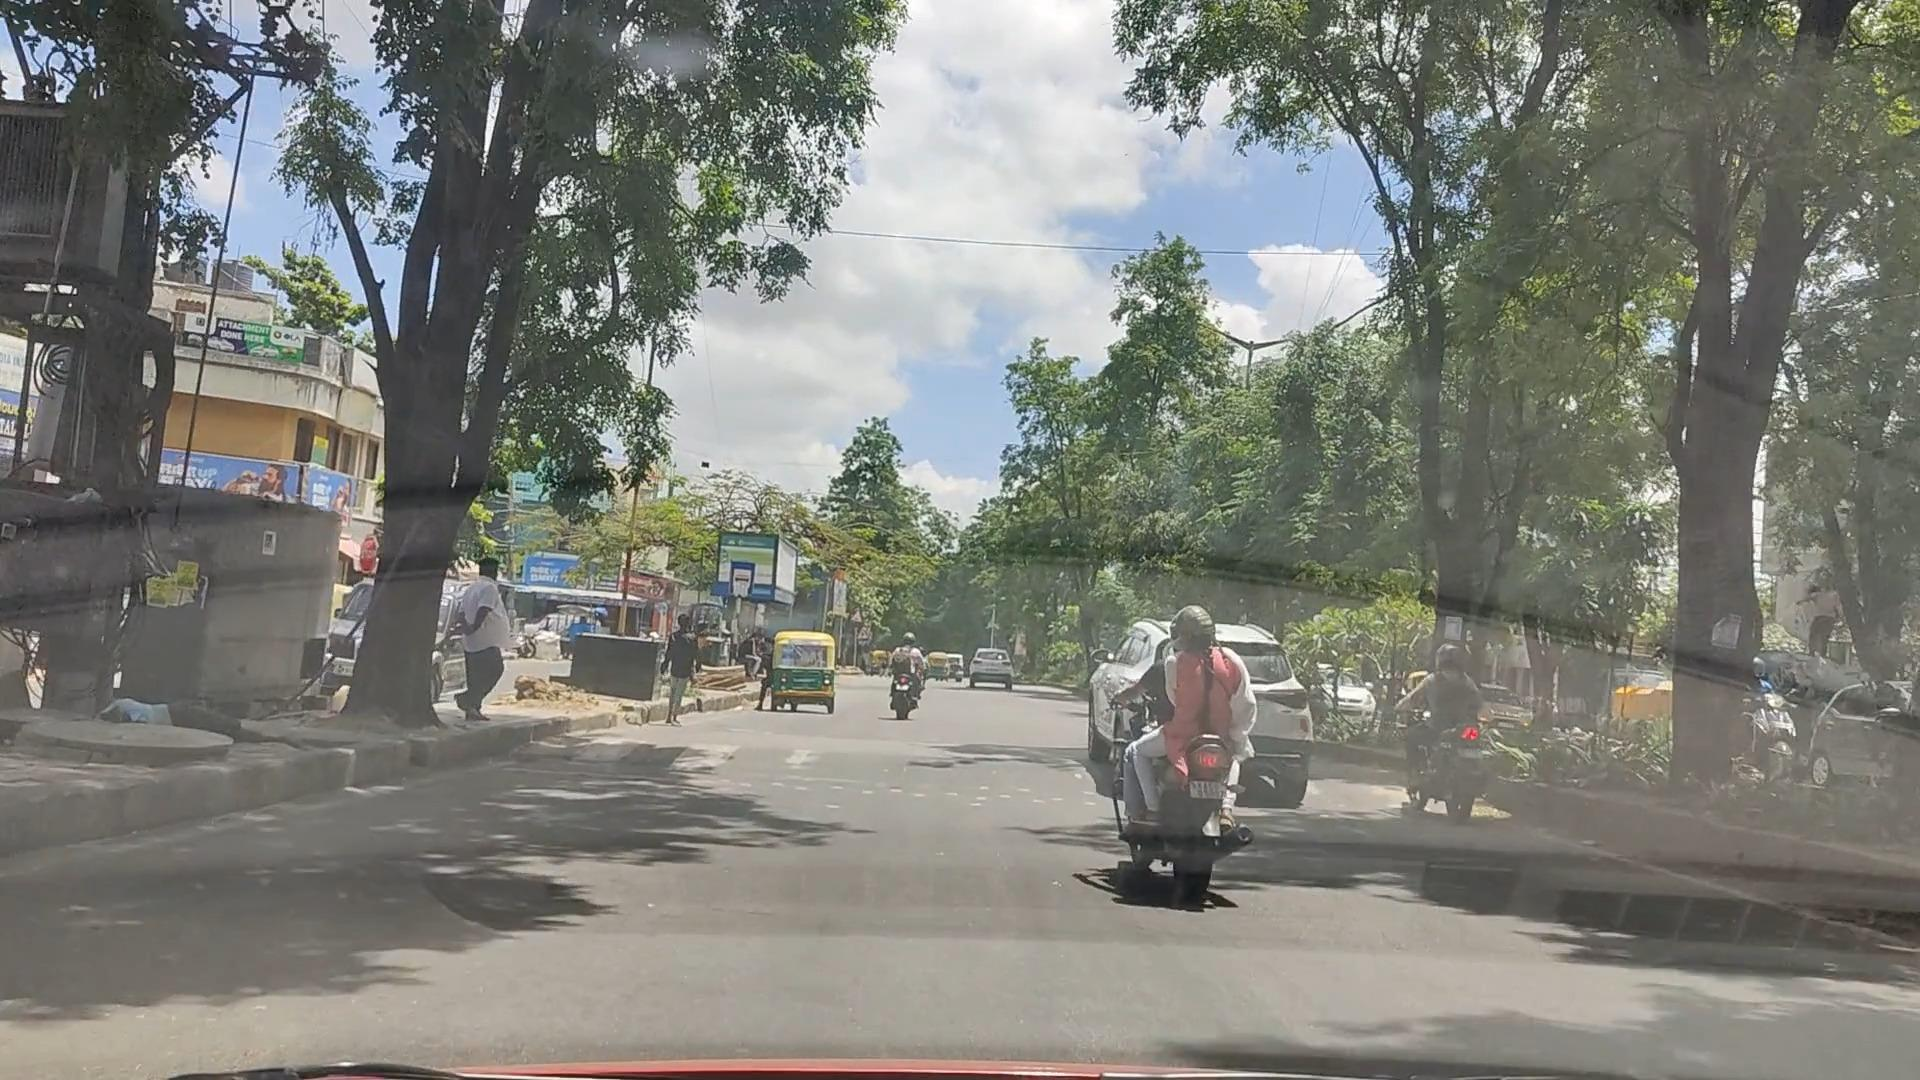LMV: (1118, 607, 1246, 919)
SpeedBump: (560, 725, 1069, 770)
